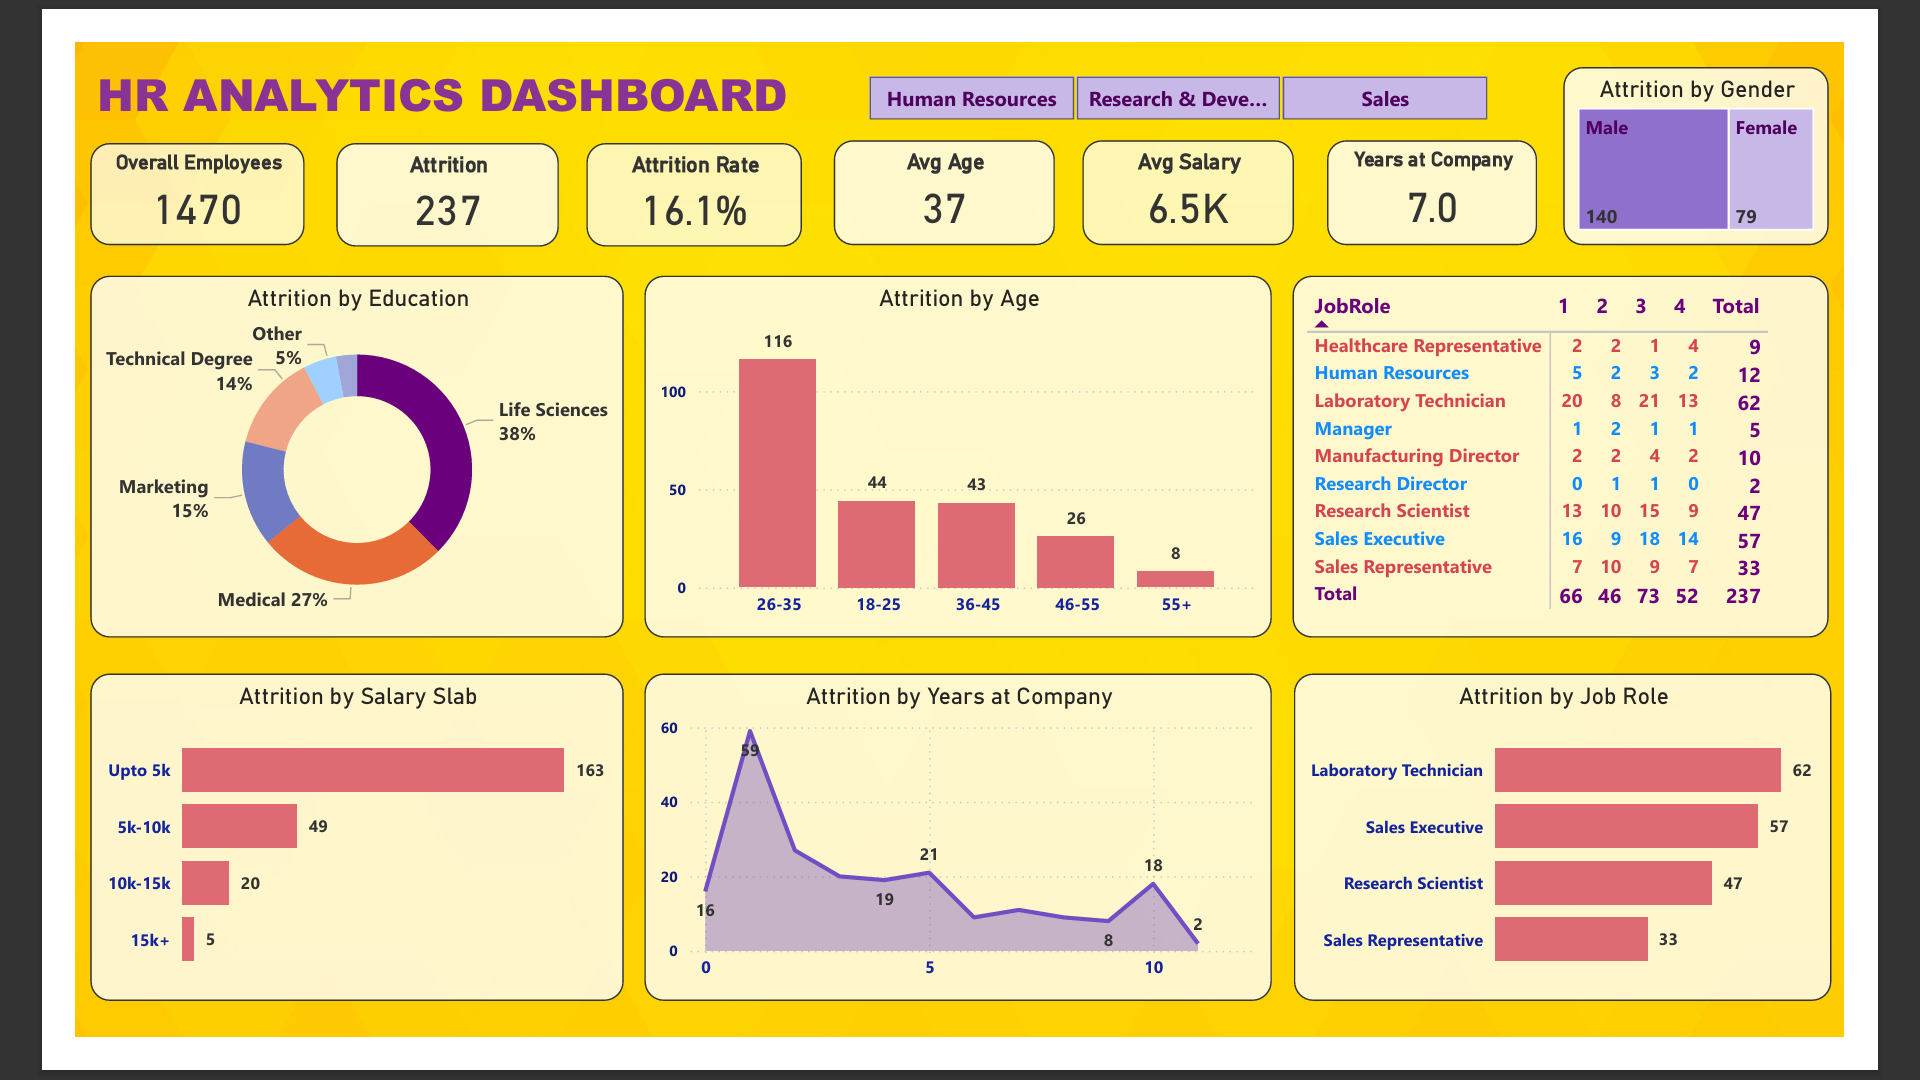

Layout of this report page (visuals, bound fields, positions):
{"tool":"powerbi","page":{"name":"Page 1","canvas":[1280,720],"ordinal":0},"visuals":[{"type":"card","title":"Overall Employees","fields":{"Values":["CountNonNull(HR_Analytics.EmpID)"]},"box":[11,72.7,155.1,74.1],"z":0},{"type":"card","title":"Attrition","fields":{"Values":["Sum(HR_Analytics.AttritionCount)"]},"box":[189.4,72.7,160.5,75.5],"z":1000},{"type":"card","title":"Attrition Rate","fields":{"Values":["HR_Analytics.AttritionRate"]},"box":[370.5,72.7,155.1,75.5],"z":2000},{"type":"card","title":"Avg Age","fields":{"Values":["Avg(HR_Analytics.Age)"]},"box":[548.9,71.4,160.5,75.5],"z":3000},{"type":"card","title":"Avg Salary","fields":{"Values":["Avg(HR_Analytics.MonthlyIncome)"]},"box":[728.6,71.4,153.7,75.5],"z":4000},{"type":"card","title":"Years at Company","fields":{"Values":["Avg(HR_Analytics.YearsAtCompany)"]},"box":[905.7,71.4,152.3,75.5],"z":5000},{"type":"donutChart","title":"Attrition by Education","fields":{"Category":["HR_Analytics.EducationField"],"Y":["Sum(HR_Analytics.AttritionCount)"]},"box":[11,168.8,385.6,262.1],"z":6000},{"type":"columnChart","title":"Attrition by Age","fields":{"Category":["HR_Analytics.AgeGroup"],"Y":["Sum(HR_Analytics.AttritionCount)"]},"box":[411.7,168.8,454.2,262.1],"z":7000},{"type":"pivotTable","fields":{"Rows":["HR_Analytics.JobRole"],"Columns":["HR_Analytics.JobSatisfaction"],"Values":["Sum(HR_Analytics.AttritionCount)"]},"box":[881,168.8,388.3,262.1],"z":8000},{"type":"barChart","title":"Attrition by Job Role","fields":{"Category":["HR_Analytics.JobRole"],"Y":["Sum(HR_Analytics.AttritionCount)"]},"box":[882.3,456.9,388.3,237.4],"z":9000},{"type":"barChart","title":"Attrition by Salary Slab","fields":{"Category":["HR_Analytics.SalarySlab"],"Y":["Sum(HR_Analytics.AttritionCount)"]},"box":[11,456.9,385.6,237.4],"z":10000},{"type":"areaChart","title":"Attrition by Years at Company","fields":{"Category":["HR_Analytics.YearsAtCompany"],"Y":["Sum(HR_Analytics.AttritionCount)"]},"box":[411.7,456.9,454.2,237.4],"z":11000},{"type":"treemap","title":"Attrition by Gender","fields":{"Group":["HR_Analytics.Gender"],"Values":["Sum(HR_Analytics.AttritionCount)"]},"box":[1077.2,17.8,192.1,129],"z":12000},{"type":"slicer","fields":{"Values":["HR_Analytics.Department"]},"box":[548.9,17.8,496.7,45.3],"z":13000},{"type":"textbox","box":[11,9.6,551.6,61.7],"z":14000}]}

Visuals, with their boxes in screenshot pixels (x1, y1, x2, y2), scaled from the page's 1280x720 canvas onto the 1920x1080 screenshot:
"Overall Employees" card: x1=16, y1=109, x2=249, y2=220
"Attrition" card: x1=284, y1=109, x2=525, y2=222
"Attrition Rate" card: x1=556, y1=109, x2=788, y2=222
"Avg Age" card: x1=823, y1=107, x2=1064, y2=220
"Avg Salary" card: x1=1093, y1=107, x2=1323, y2=220
"Years at Company" card: x1=1359, y1=107, x2=1587, y2=220
"Attrition by Education" donutChart: x1=16, y1=253, x2=595, y2=646
"Attrition by Age" columnChart: x1=618, y1=253, x2=1299, y2=646
pivotTable - HR_Analytics.JobRole x HR_Analytics.JobSatisfaction: x1=1322, y1=253, x2=1904, y2=646
"Attrition by Job Role" barChart: x1=1323, y1=685, x2=1906, y2=1041
"Attrition by Salary Slab" barChart: x1=16, y1=685, x2=595, y2=1041
"Attrition by Years at Company" areaChart: x1=618, y1=685, x2=1299, y2=1041
"Attrition by Gender" treemap: x1=1616, y1=27, x2=1904, y2=220
slicer - HR_Analytics.Department: x1=823, y1=27, x2=1568, y2=95
textbox: x1=16, y1=14, x2=844, y2=107
